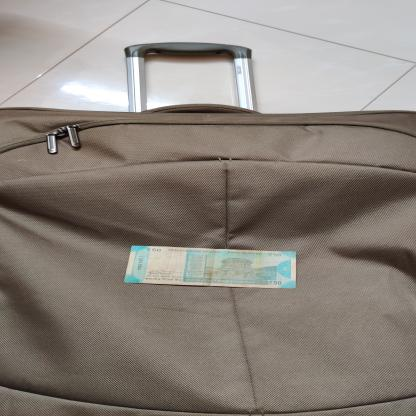New50Back: (123, 246, 297, 288)
